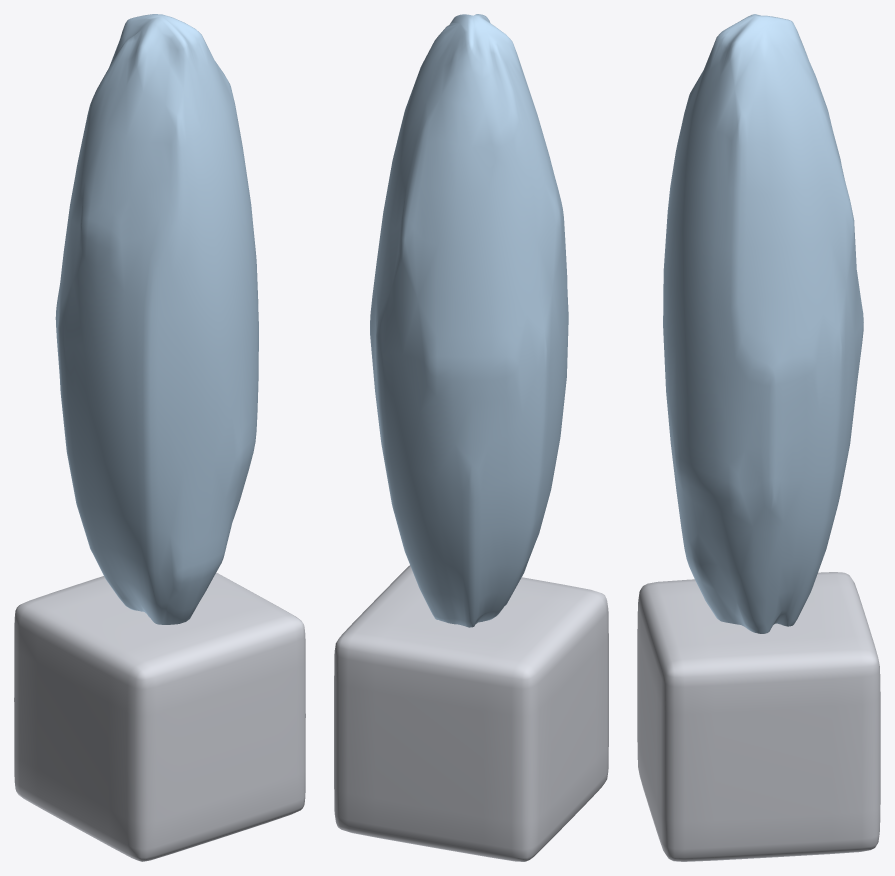
File: PROP_Fountain_v0.glb
3 views of the same model, side by side, from view 1: azimuth 30°, elevation 25°; view 2: azimuth 150°, elevation 25°; view 3: azimuth 270°, elevation 25° (orthographic).
Visible parts, largest first — view 1: PROP_Fountain_v0; view 2: PROP_Fountain_v0; view 3: PROP_Fountain_v0.
Part boxes in pixels (x1,y1,x2,y2): PROP_Fountain_v0: (14, 14, 305, 861); PROP_Fountain_v0: (334, 14, 608, 861); PROP_Fountain_v0: (637, 14, 880, 861).
Size of the model in its own units: 1.09 by 3.97 by 1.09.
